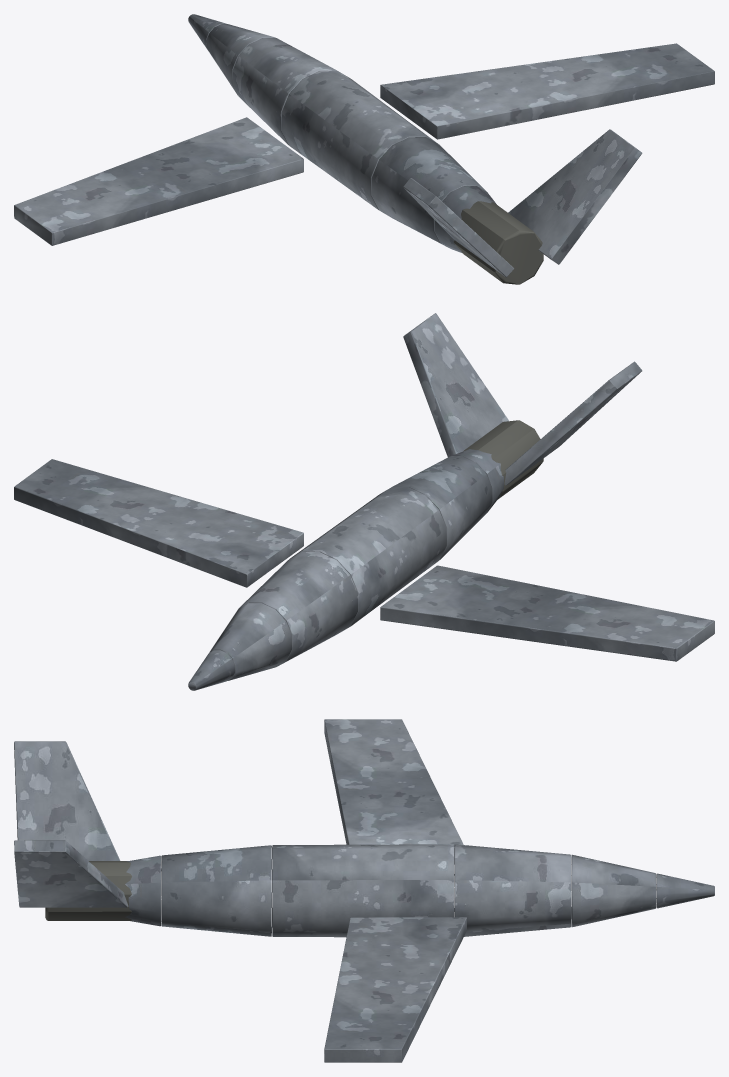
Rendered from uav_e7_us_loiter_LOD1.glb.
The picture shows the model from 3 angles, top to bottom: view 1: azimuth 30°, elevation 25°; view 2: azimuth 150°, elevation 25°; view 3: azimuth 270°, elevation 25°; orthographic projection. The views are drawn at different scales.
Visible parts, largest first — view 1: uav_e7_us_loiter_LOD1_body, uav_e7_us_loiter_LOD1_gun; view 2: uav_e7_us_loiter_LOD1_body, uav_e7_us_loiter_LOD1_gun; view 3: uav_e7_us_loiter_LOD1_body, uav_e7_us_loiter_LOD1_gun.
Part boxes in pixels (x1=…): uav_e7_us_loiter_LOD1_body: x1=14, y1=14, x2=714, y2=277; uav_e7_us_loiter_LOD1_gun: x1=453, y1=201, x2=543, y2=284; uav_e7_us_loiter_LOD1_body: x1=14, y1=313, x2=714, y2=690; uav_e7_us_loiter_LOD1_gun: x1=463, y1=420, x2=543, y2=499; uav_e7_us_loiter_LOD1_body: x1=14, y1=719, x2=714, y2=1062; uav_e7_us_loiter_LOD1_gun: x1=45, y1=861, x2=131, y2=920.
Size of the model in its own units: 3 by 0.6028 by 2.69.
Materials: 2 (1 with a texture image).
